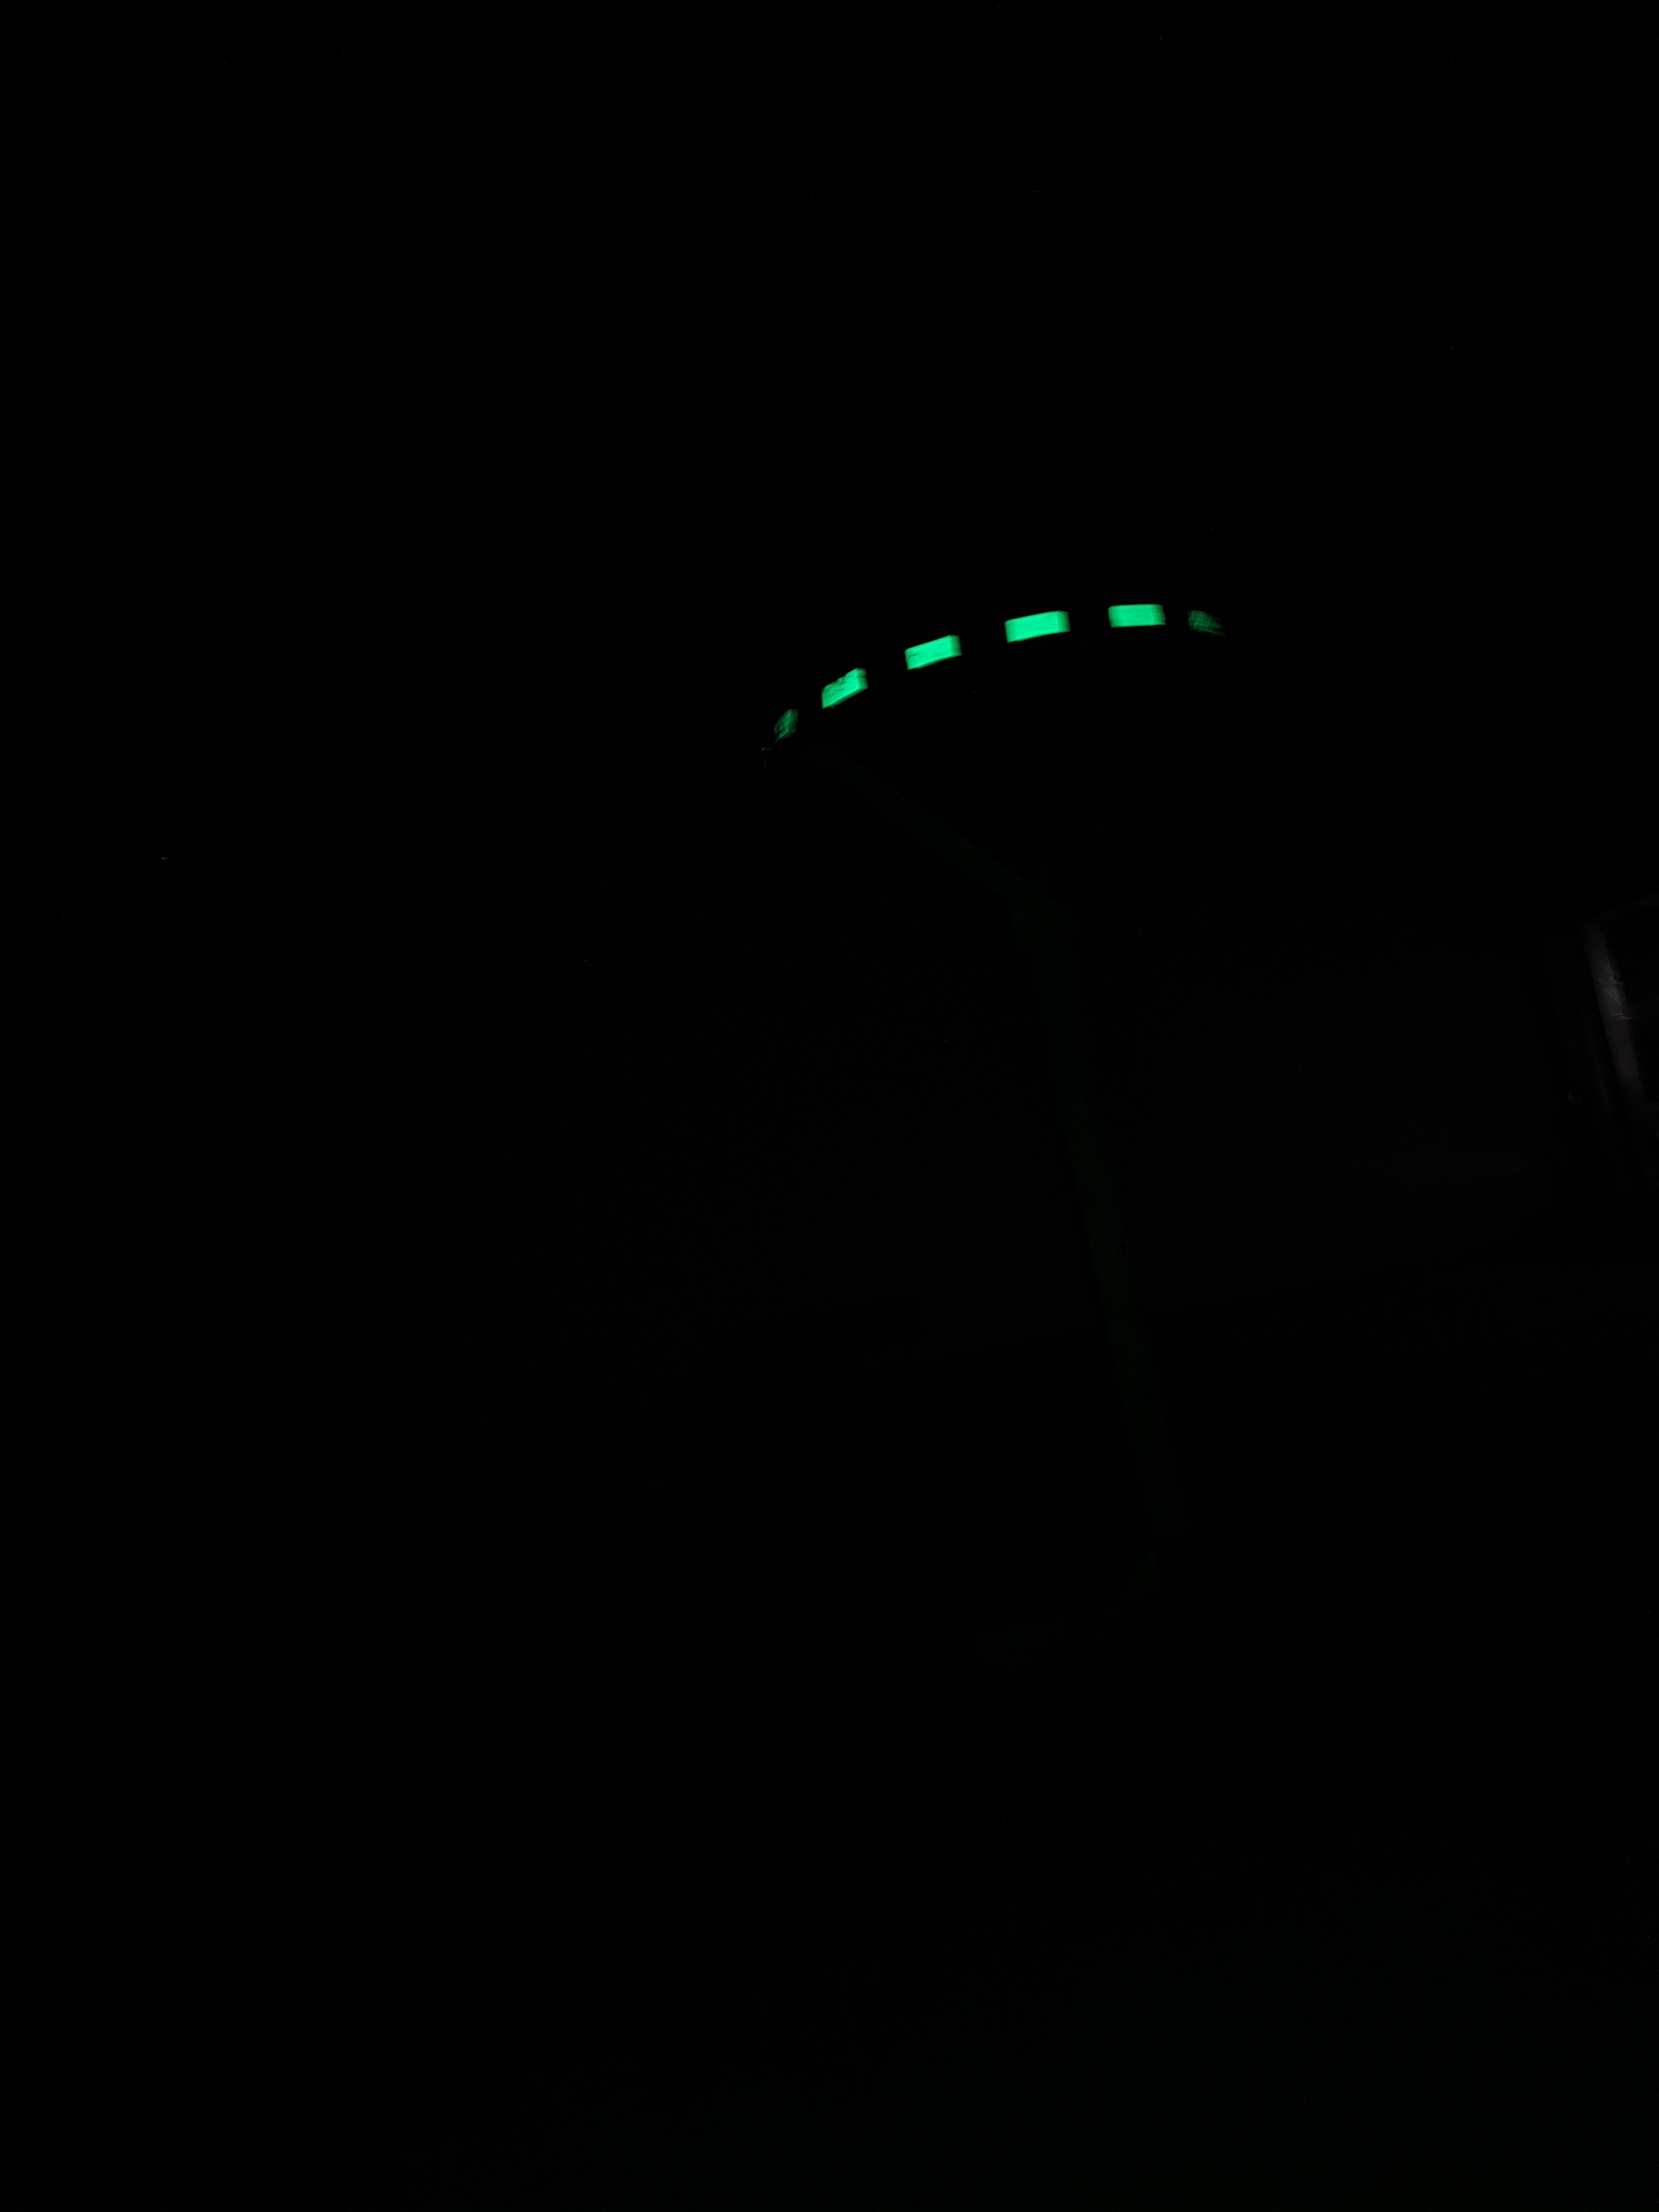hoop: (760, 536, 1262, 766)
